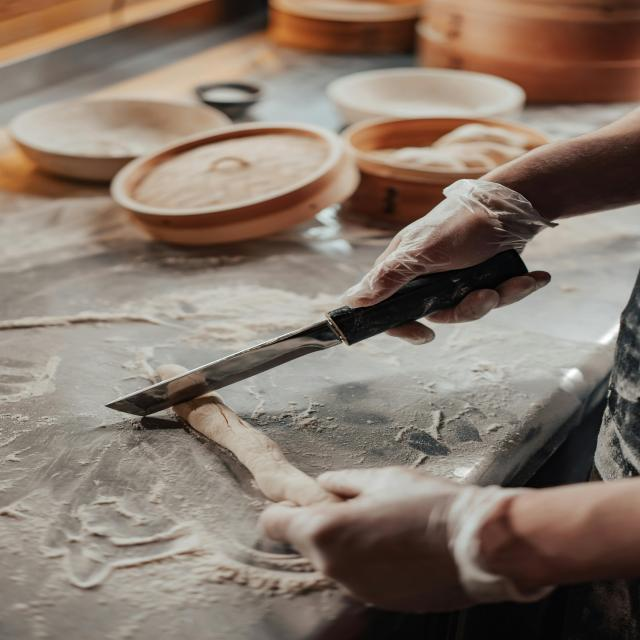knife: (101, 248, 533, 418)
